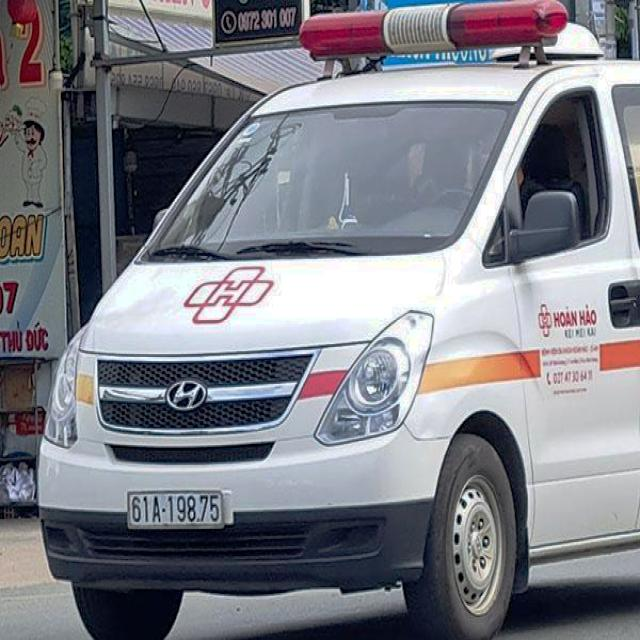license_plate: (128, 491, 225, 528)
